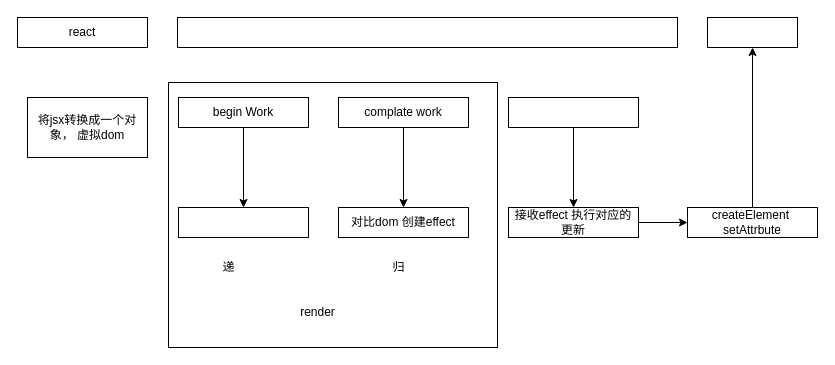
Some shapes in this 835 by 365 pixel diagram are drawn without their labels. Here are the shapes that lost their labels. From the top down, the centre of each, then its label:
the point at 427,32: react reconclier
the point at 752,32: react-dom
the point at 573,112: commit work
the point at 243,222: diff, 遍历Fiber树
